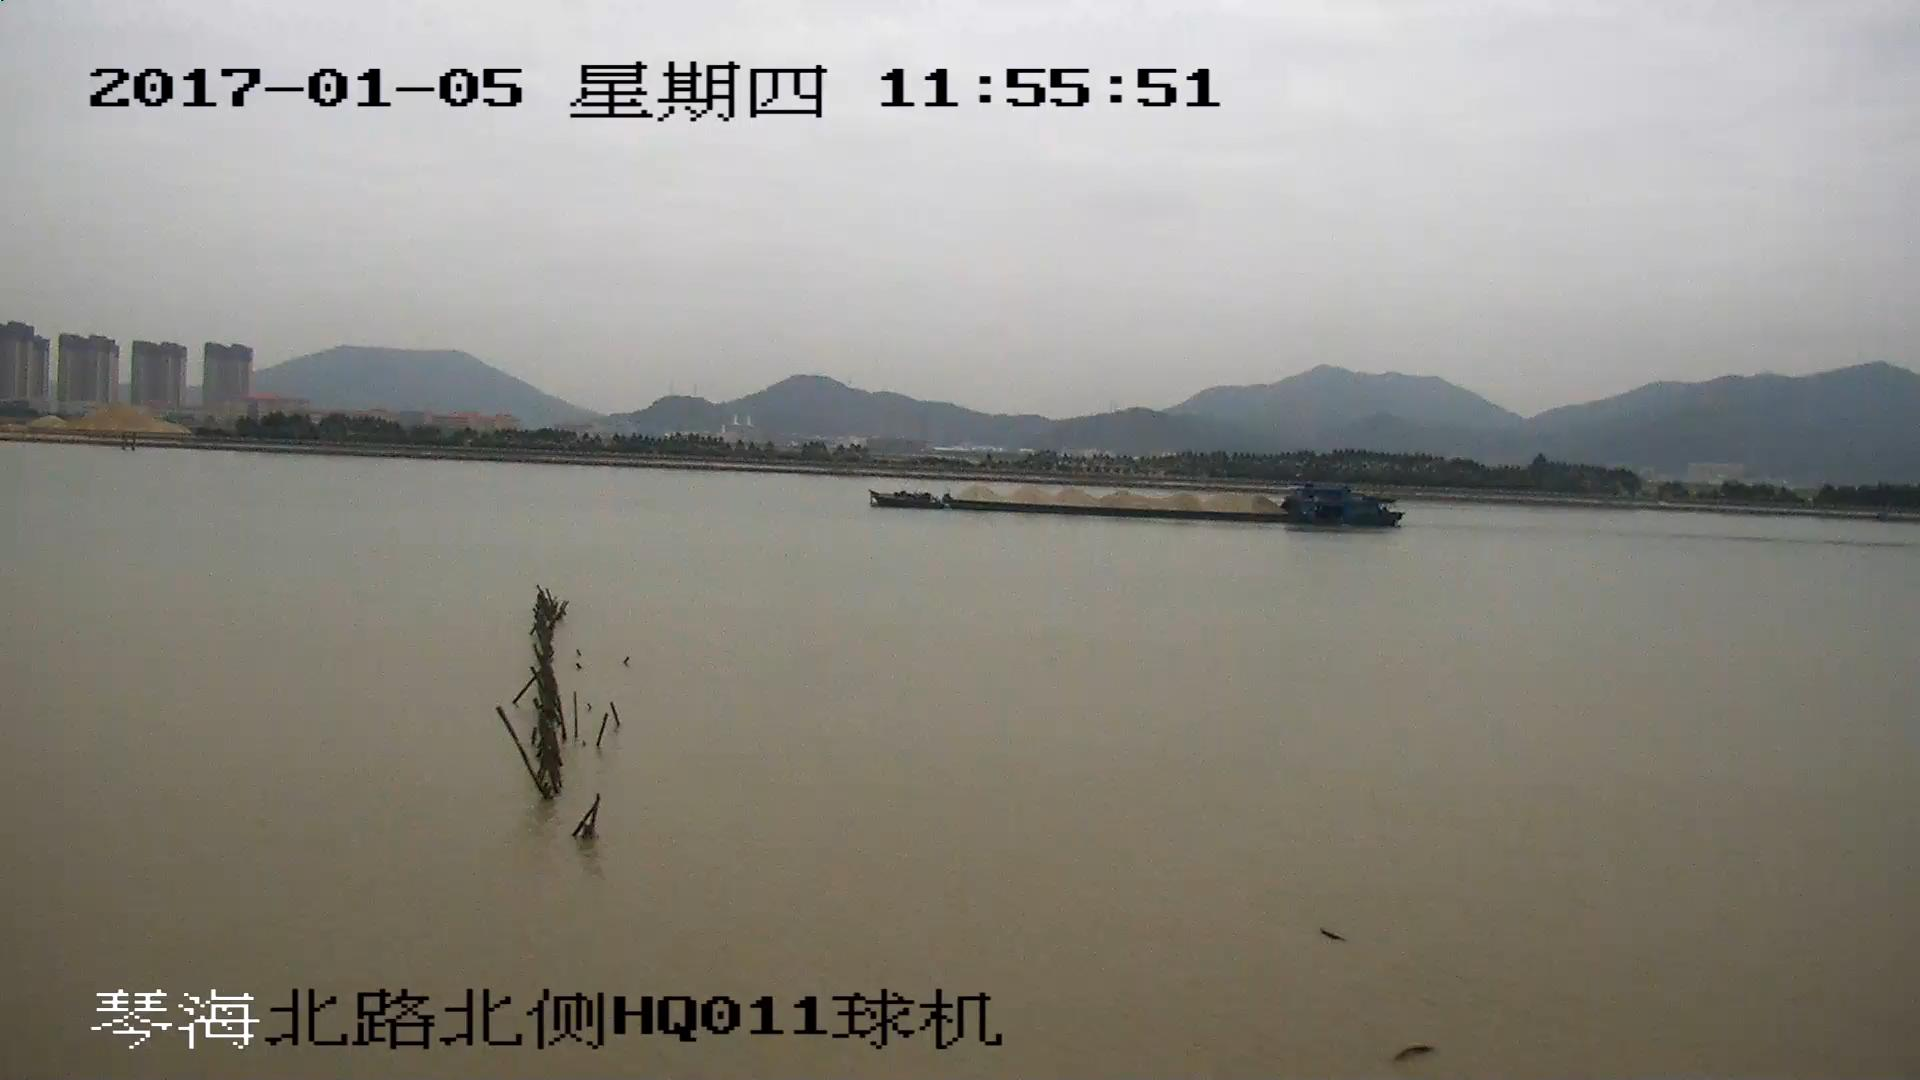ore carrier: (870, 482, 1404, 530)
